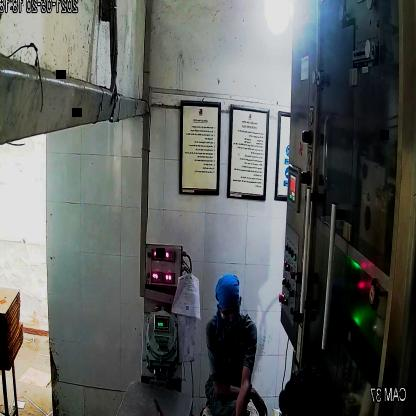goggles: (213, 297, 242, 322)
